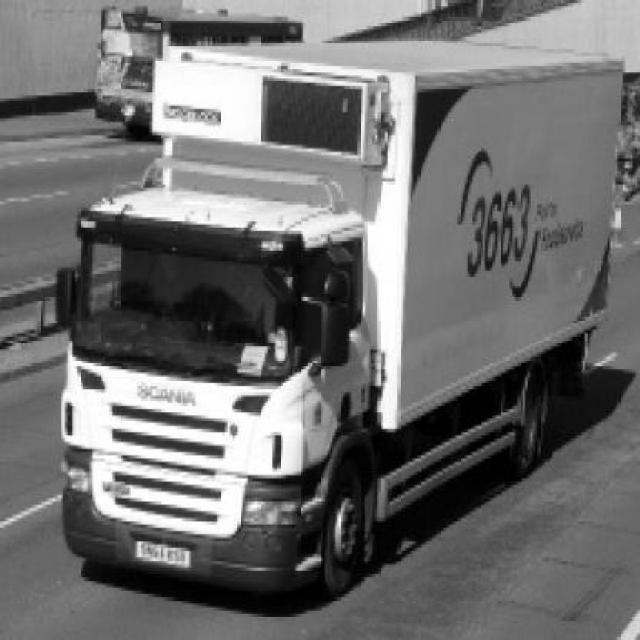Box Truck: (62, 43, 625, 598)
